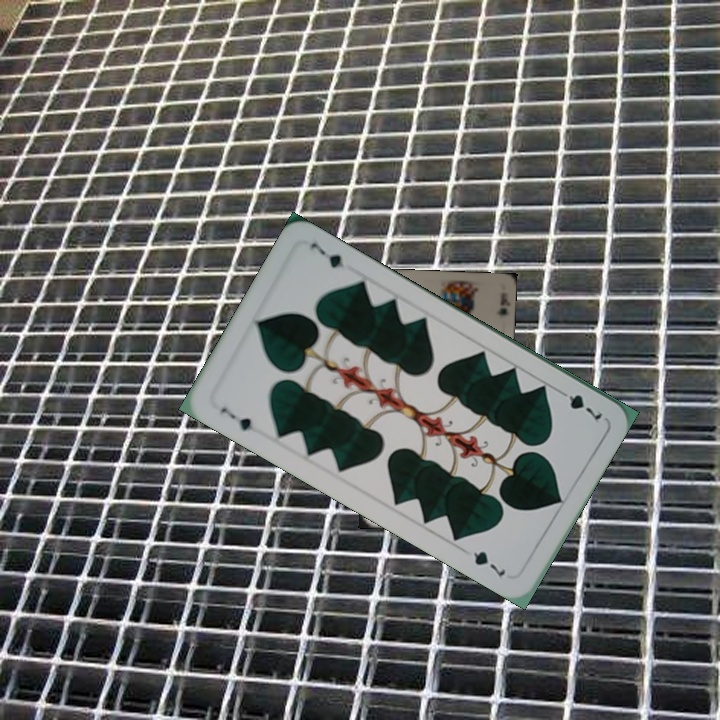G7: (553, 385, 605, 423), (216, 403, 262, 436)
